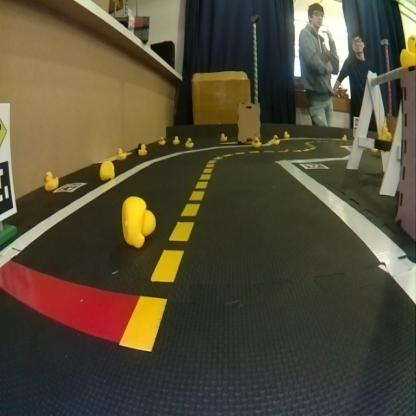Duckie: (121, 196, 155, 247), (400, 34, 414, 67), (99, 160, 114, 178), (43, 173, 58, 188), (379, 124, 391, 139), (116, 147, 126, 159), (138, 144, 147, 154), (271, 135, 280, 144), (172, 135, 180, 144), (185, 137, 193, 146), (252, 137, 260, 146), (283, 130, 290, 139), (158, 136, 165, 144), (220, 133, 227, 141), (342, 134, 347, 140)
QR code: (0, 160, 16, 220), (57, 182, 86, 192), (300, 160, 326, 169)
